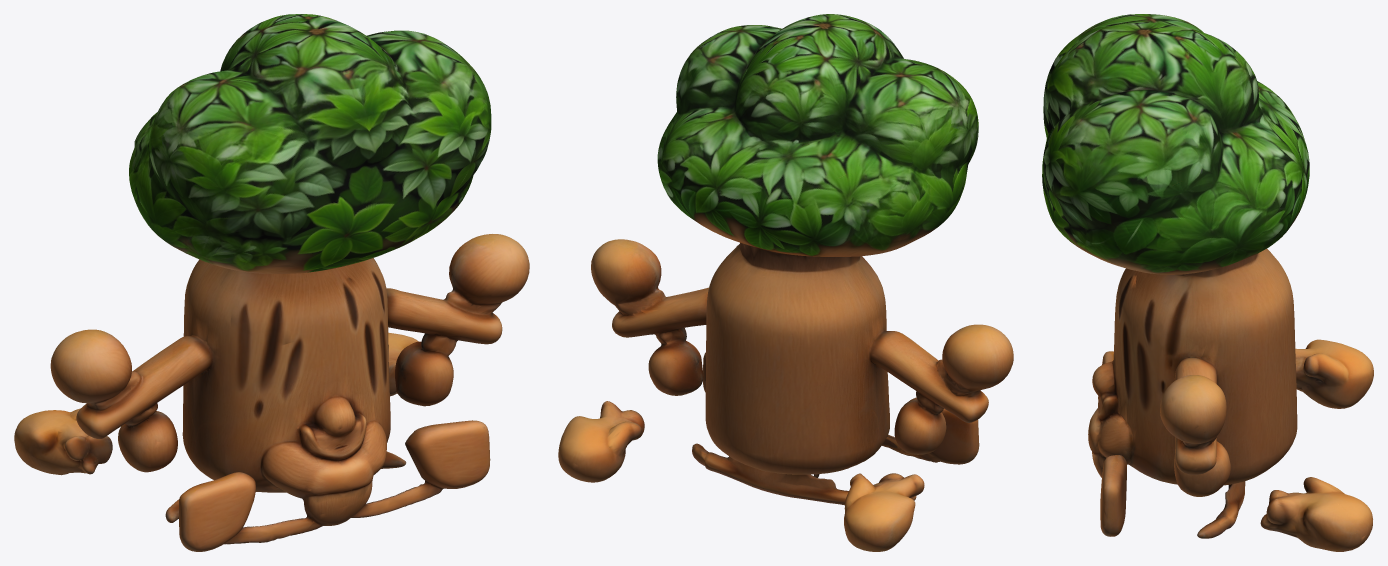
The model's file is vovo-carvalho.glb.
The picture shows the model from 3 angles, left to right: view 1: azimuth 30°, elevation 25°; view 2: azimuth 150°, elevation 25°; view 3: azimuth 270°, elevation 25°; orthographic projection. The views are drawn at different scales.
Size of the model in its own units: 1.99 by 2 by 1.3.
Materials: 1 (1 with a texture image).
